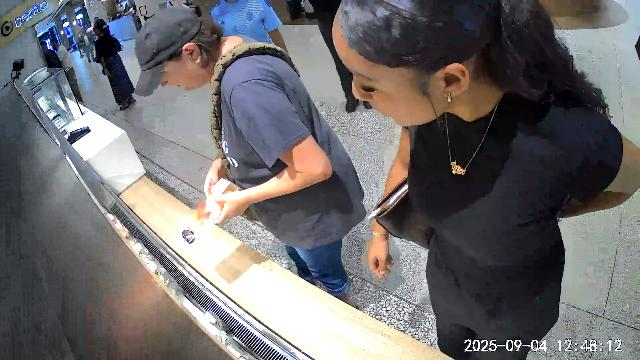sushi-box: (175, 178, 242, 246)
